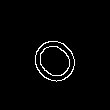O_SE: (20, 26, 86, 92)
